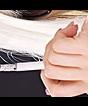Cigarette: (0, 60, 44, 70)
